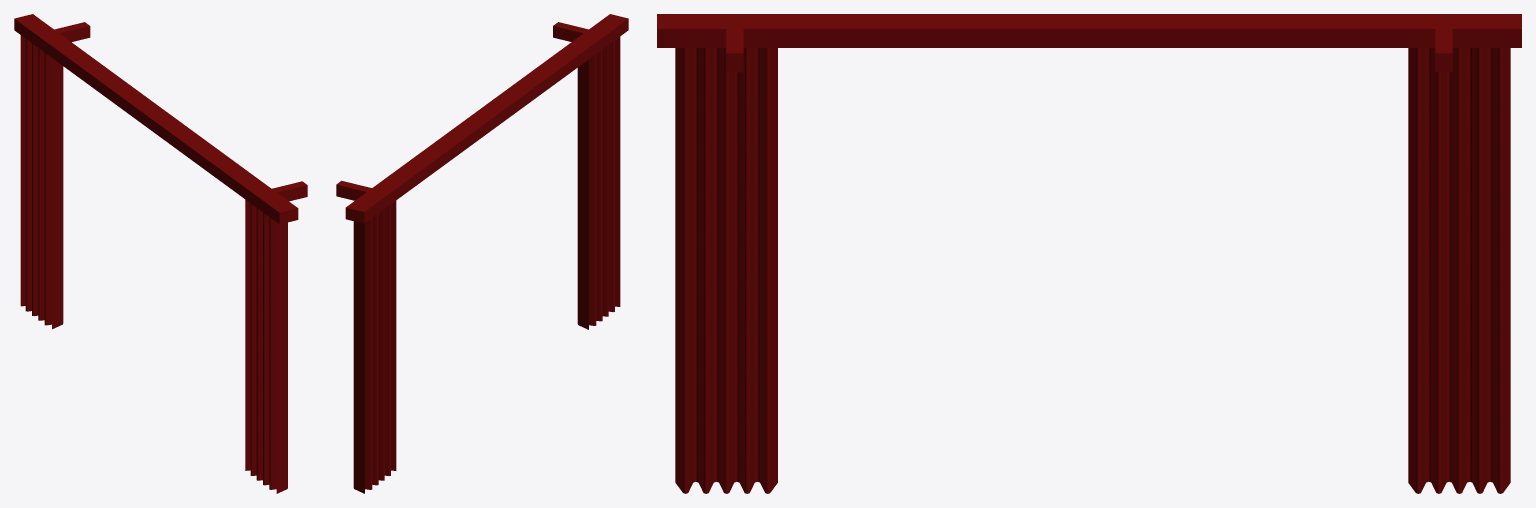
The model's file is curtains.fbx.
3 views of the same model, side by side, from view 1: azimuth 30°, elevation 25°; view 2: azimuth 150°, elevation 25°; view 3: azimuth 270°, elevation 25° (orthographic). The views are drawn at different scales.
Visible parts, largest first — view 1: pCube167; view 2: pCube167; view 3: pCube167.
Boxes of the visible parts, x1,y1,x2,y2 form: pCube167: (14, 14, 307, 493); pCube167: (336, 14, 628, 493); pCube167: (657, 14, 1521, 493).
Bounding box in the file's own units: 1.29 × 7.16 × 12.04.
